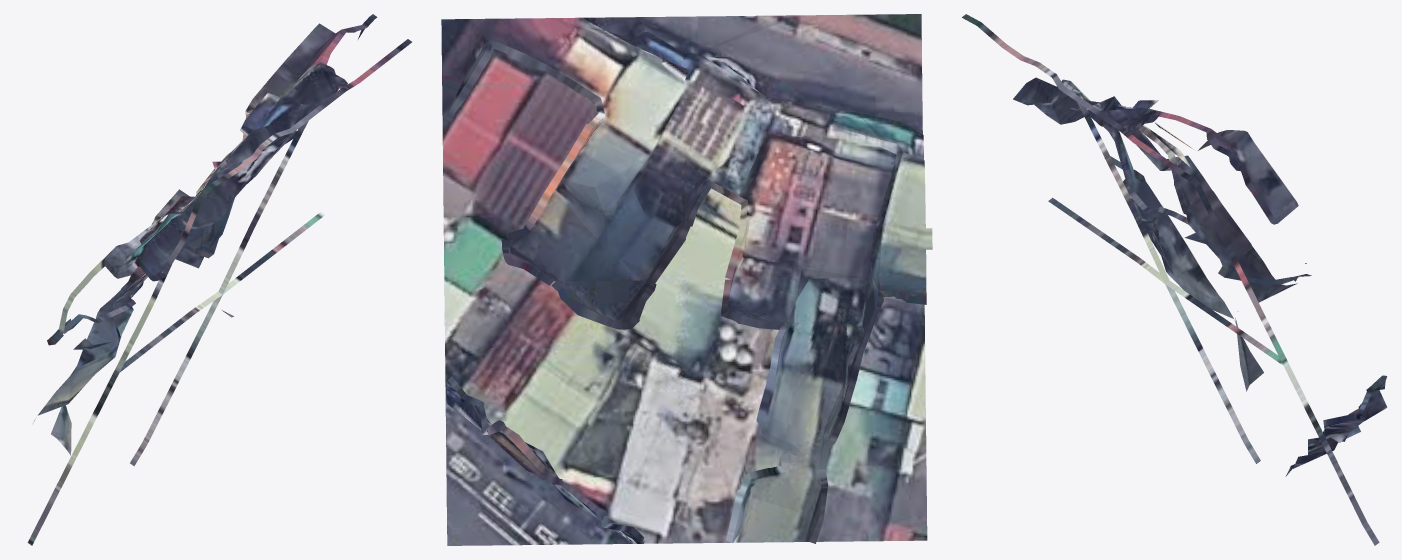
3 renders of one model, left to right at view 1: azimuth 30°, elevation 25°; view 2: azimuth 150°, elevation 25°; view 3: azimuth 270°, elevation 25°, orthographic. The views are drawn at different scales.
Bounding box in the file's own units: 38.26 × 36.38 × 32.55.
Materials: 2 (2 with a texture image).
